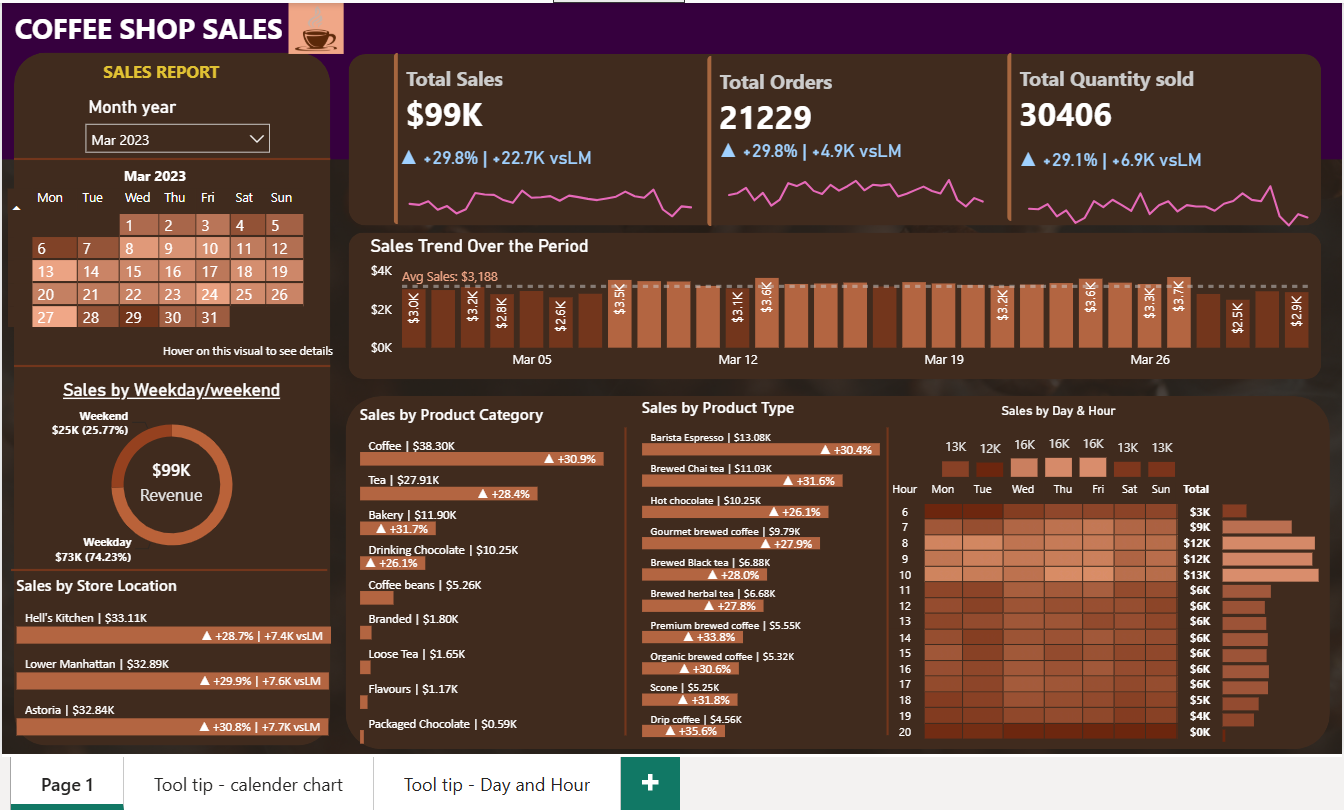

The dashboard page shown, as its layout file describes it:
{"tool":"powerbi","page":{"name":"Page 1","canvas":[1280,720],"ordinal":0},"visuals":[{"type":"shape","box":[0,0,1280.4,149.5],"z":0},{"type":"shape","box":[11.1,47.7,302.2,661.7],"z":1000},{"type":"shape","box":[330.8,49.3,928.9,163.8],"z":2000},{"type":"textbox","box":[7.6,0,280.1,48.5],"z":3000},{"type":"cardVisual","fields":{"Data":["Transactions.total sales"]},"box":[346.5,29.9,275.2,198.8],"z":4000,"group":"g1"},{"type":"cardVisual","fields":{"Data":["Transactions.Total qty sold"]},"box":[932.1,30.2,348.3,195.6],"z":4000,"group":"g3"},{"type":"cardVisual","fields":{"Data":["Transactions.Total Orders"]},"box":[646,33.6,327.7,197.2],"z":4000,"group":"g2"},{"type":"slicer","fields":{"Values":["data_table.month year"]},"box":[74.2,89.3,186.2,78.7],"z":4000},{"type":"group","id":"g1","title":"Group 1","box":[346.5,29.9,326.3,198.8],"z":5000},{"type":"group","id":"g2","title":"Group 1","box":[646,33.6,327.7,197.2],"z":6000},{"type":"lineChart","fields":{"Category":["data_table.Date.Variation.Date Hierarchy.Year","data_table.Date.Variation.Date Hierarchy.Quarter","data_table.Date.Variation.Date Hierarchy.Month","data_table.Date.Variation.Date Hierarchy.Day"],"Y":["Transactions.Total Orders"]},"box":[678.3,131.6,272.2,80.9],"z":6000,"group":"g2"},{"type":"lineChart","fields":{"Category":["data_table.Date.Variation.Date Hierarchy.Year","data_table.Date.Variation.Date Hierarchy.Quarter","data_table.Date.Variation.Date Hierarchy.Month","data_table.Date.Variation.Date Hierarchy.Day"],"Y":["Transactions.Total Sales"]},"box":[374,137.1,298.8,82.4],"z":6000,"group":"g1"},{"type":"lineChart","fields":{"Category":["data_table.Date.Variation.Date Hierarchy.Year","data_table.Date.Variation.Date Hierarchy.Quarter","data_table.Date.Variation.Date Hierarchy.Month","data_table.Date.Variation.Date Hierarchy.Day"],"Y":["Transactions.Total qty sold"]},"box":[964.6,139.1,295.9,80.4],"z":6000,"group":"g3"},{"type":"group","id":"g3","title":"Group 1","box":[932.1,30.2,348.3,195.6],"z":7000},{"type":"pivotTable","fields":{"Rows":["data_table.Week num"],"Columns":["data_table.Day Name"],"Values":["Min(data_table.daynumber)"]},"box":[0,171.8,299,163.8],"z":8000},{"type":"cardVisual","fields":{"Data":["Min(data_table.month year)"]},"box":[87.5,128.8,124.1,68.4],"z":9000},{"type":"cardVisual","fields":{"Data":["Transactions.Food note"]},"box":[124.1,303.8,221.1,55.7],"z":10000},{"type":"shape","box":[11.1,318.1,302.2,57.3],"z":11000},{"type":"shape","box":[11.1,120.9,302.2,57.3],"z":12000},{"type":"donutChart","title":"Sales by Weekday/weekend","fields":{"Category":["data_table.Weekday/weekend"],"Y":["Transactions.Total Sales"]},"box":[23.9,359.5,275.2,181.3],"z":13000},{"type":"cardVisual","fields":{"Data":["Transactions.Total Sales"]},"box":[74.2,405.8,174.1,122.7],"z":14000},{"type":"shape","box":[8,512.2,302.2,57.3],"z":15000},{"type":"clusteredBarChart","title":"Sales by Store Location","fields":{"Category":["Transactions.store_location"],"Y":["Transactions.PlaceHolder","Transactions.Total Sales"]},"box":[8,545.6,337.2,160.7],"z":16000},{"type":"shape","box":[330.8,219.5,928.9,140],"z":17000},{"type":"shape","box":[327.7,375.4,940.1,337.2],"z":18000},{"type":"columnChart","title":"Sales Trend Over the Period","fields":{"Category":["Transactions.transaction_date"],"Y":["Transactions.Total Sales"]},"box":[346.8,222.7,914.6,136.8],"z":19000},{"type":"shape","box":[571,405.6,47.7,294.3],"z":20000},{"type":"clusteredBarChart","title":"Sales by Product Type","fields":{"Y":["Transactions.PlaceHolder","Transactions.Total Sales"],"Category":["Transactions.product_type"]},"box":[606,375.4,270.4,330.8],"z":21000},{"type":"clusteredBarChart","title":"Sales by Product Category","fields":{"Y":["Transactions.PlaceHolder","Transactions.Total Sales"],"Category":["Transactions.product_category"]},"box":[336.2,383.1,269.5,330.1],"z":22000},{"type":"pivotTable","fields":{"Rows":["Transactions.hour"],"Columns":["data_table.Day Name"],"Values":["Transactions.Total Sales"]},"box":[838.9,451.2,351.3,262],"z":23000},{"type":"barChart","fields":{"Y":["Sum(Transactions.TOTAL_SALES)"],"Category":["Transactions.hour"]},"box":[1159.9,464.9,119.6,245.3],"z":24000},{"type":"shape","box":[822.2,405.8,46.9,293.8],"z":25000},{"type":"columnChart","title":"Sales by Day & Hour","fields":{"Category":["data_table.Day Name"],"Y":["Sum(Transactions.TOTAL_SALES)"]},"box":[891.9,383.1,233.2,75.7],"z":26000},{"type":"textbox","box":[87.8,48.5,140.8,37.9],"z":27000},{"type":"image","box":[274.1,0,53,48.5],"z":28000}]}

Visuals, with their boxes on the page's 1280x720 design canvas (x1, y1, x2, y2). These are canvas units, not pixel positions in the 1344x810 screenshot, which may show the page scaled, cropped or inside an application window:
shape: region(0, 0, 1280, 150)
shape: region(11, 48, 313, 709)
shape: region(331, 49, 1260, 213)
textbox: region(8, 0, 288, 48)
cardVisual - Transactions.total sales: region(346, 30, 622, 229)
cardVisual - Transactions.Total qty sold: region(932, 30, 1280, 226)
cardVisual - Transactions.Total Orders: region(646, 34, 974, 231)
slicer - data_table.month year: region(74, 89, 260, 168)
"Group 1" group: region(346, 30, 673, 229)
"Group 1" group: region(646, 34, 974, 231)
lineChart - data_table.Date.Variation.Date Hierarchy.Year x data_table.Date.Variation.Date Hierarchy.Quarter: region(678, 132, 950, 212)
lineChart - data_table.Date.Variation.Date Hierarchy.Year x data_table.Date.Variation.Date Hierarchy.Quarter: region(374, 137, 673, 220)
lineChart - data_table.Date.Variation.Date Hierarchy.Year x data_table.Date.Variation.Date Hierarchy.Quarter: region(965, 139, 1260, 220)
"Group 1" group: region(932, 30, 1280, 226)
pivotTable - data_table.Week num x data_table.Day Name: region(0, 172, 299, 336)
cardVisual - Min(data_table.month year): region(88, 129, 212, 197)
cardVisual - Transactions.Food note: region(124, 304, 345, 360)
shape: region(11, 318, 313, 375)
shape: region(11, 121, 313, 178)
"Sales by Weekday/weekend" donutChart: region(24, 360, 299, 541)
cardVisual - Transactions.Total Sales: region(74, 406, 248, 528)
shape: region(8, 512, 310, 570)
"Sales by Store Location" clusteredBarChart: region(8, 546, 345, 706)
shape: region(331, 220, 1260, 360)
shape: region(328, 375, 1268, 713)
"Sales Trend Over the Period" columnChart: region(347, 223, 1261, 360)
shape: region(571, 406, 619, 700)
"Sales by Product Type" clusteredBarChart: region(606, 375, 876, 706)
"Sales by Product Category" clusteredBarChart: region(336, 383, 606, 713)
pivotTable - Transactions.hour x data_table.Day Name: region(839, 451, 1190, 713)
barChart - Sum(Transactions.TOTAL_SALES) x Transactions.hour: region(1160, 465, 1280, 710)
shape: region(822, 406, 869, 700)
"Sales by Day & Hour" columnChart: region(892, 383, 1125, 459)
textbox: region(88, 48, 229, 86)
image: region(274, 0, 327, 48)
